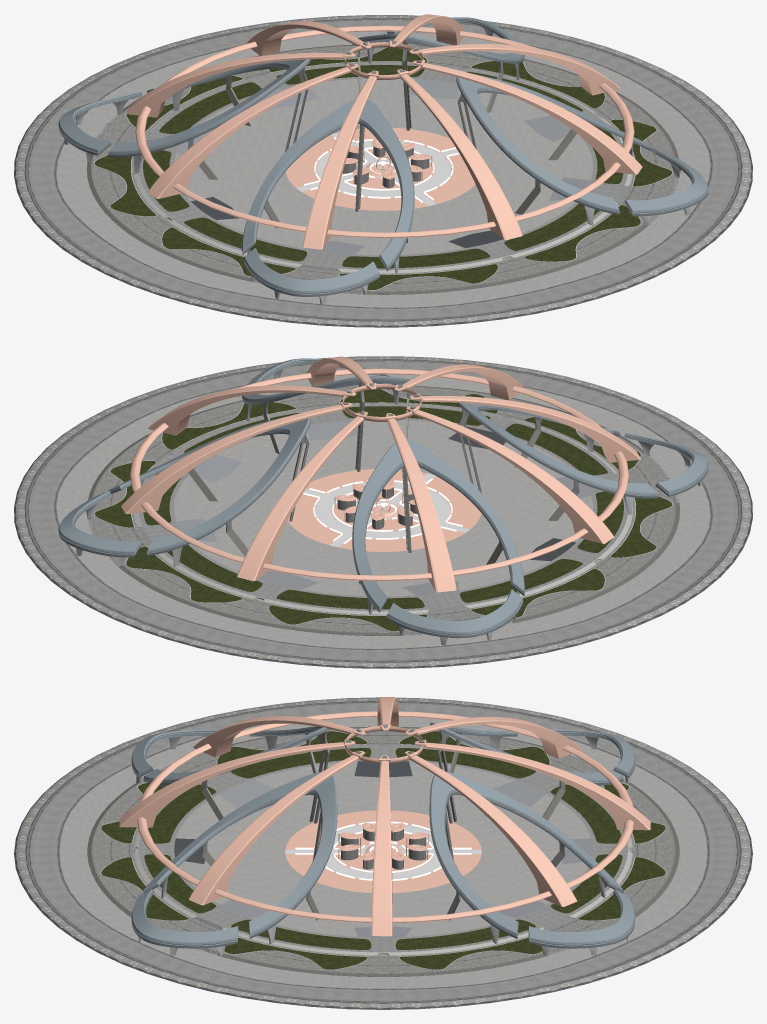
Rendered from Polished VWM 3d model compressed.glb.
3 views of the same model, one above another, from view 1: azimuth 30°, elevation 25°; view 2: azimuth 150°, elevation 25°; view 3: azimuth 270°, elevation 25° (orthographic).
Visible parts, largest first — view 1: KB3D_OAS_BldgLgInterplanetaryEmbassy_A_MAIN_CIRCLE_FLOOR, KB3D_OAS_BldgLgInterplanetaryEmbassy_A_Grassy_Area, KB3D_LNB_BldgXLG_C_TowerSupport.001, KB3D_LNB_BldgXLG_C_TowerSupport.002, KB3D_OAS_BldgLgInterplanetaryEmbassy_A_ArchwayA.001, KB3D_LNB_BldgXLG_C_Ground.002, KB3D_OAS_BldgLgInterplanetaryEmbassy_A_ArchwayA.004, KB3D_OAS_BldgLgInterplanetaryEmbassy_A_ArchwayA.002, Lower_Dome_Larger_Glass_Circle_Rim, KB3D_OAS_BldgLgInterplanetaryEmbassy_A_MAIN_CIRCLE_FLOOR.001, KB3D_OAS_BldgLgInterplanetaryEmbassy_A_ArchwayA.003, Top_Dome_Smaller_Glass_Circle_Rim; view 2: KB3D_OAS_BldgLgInterplanetaryEmbassy_A_MAIN_CIRCLE_FLOOR, KB3D_OAS_BldgLgInterplanetaryEmbassy_A_Grassy_Area, KB3D_LNB_BldgXLG_C_TowerSupport.001, KB3D_LNB_BldgXLG_C_TowerSupport.002, KB3D_OAS_BldgLgInterplanetaryEmbassy_A_ArchwayA.002, KB3D_LNB_BldgXLG_C_Ground.002, KB3D_OAS_BldgLgInterplanetaryEmbassy_A_ArchwayA.003, Lower_Dome_Larger_Glass_Circle_Rim, KB3D_OAS_BldgLgInterplanetaryEmbassy_A_ArchwayA.001, KB3D_OAS_BldgLgInterplanetaryEmbassy_A_MAIN_CIRCLE_FLOOR.001, KB3D_OAS_BldgLgInterplanetaryEmbassy_A_ArchwayA.004, Top_Dome_Smaller_Glass_Circle_Rim; view 3: KB3D_OAS_BldgLgInterplanetaryEmbassy_A_MAIN_CIRCLE_FLOOR, KB3D_OAS_BldgLgInterplanetaryEmbassy_A_Grassy_Area, KB3D_LNB_BldgXLG_C_TowerSupport.002, KB3D_LNB_BldgXLG_C_TowerSupport.001, KB3D_OAS_BldgLgInterplanetaryEmbassy_A_ArchwayA.003, KB3D_OAS_BldgLgInterplanetaryEmbassy_A_ArchwayA.004, KB3D_LNB_BldgXLG_C_Ground.002, Lower_Dome_Larger_Glass_Circle_Rim, KB3D_OAS_BldgLgInterplanetaryEmbassy_A_MAIN_CIRCLE_FLOOR.001, KB3D_OAS_BldgLgInterplanetaryEmbassy_A_ArchwayA.001, KB3D_OAS_BldgLgInterplanetaryEmbassy_A_ArchwayA.002, Top_Dome_Smaller_Glass_Circle_Rim.
Part boxes in pixels (bbox=[...]): KB3D_OAS_BldgLgInterplanetaryEmbassy_A_MAIN_CIRCLE_FLOOR: bbox=[14, 15, 752, 327]; KB3D_OAS_BldgLgInterplanetaryEmbassy_A_Grassy_Area: bbox=[94, 47, 672, 290]; KB3D_LNB_BldgXLG_C_TowerSupport.001: bbox=[148, 21, 620, 239]; KB3D_LNB_BldgXLG_C_TowerSupport.002: bbox=[125, 14, 642, 249]; KB3D_OAS_BldgLgInterplanetaryEmbassy_A_ArchwayA.001: bbox=[242, 99, 414, 304]; KB3D_LNB_BldgXLG_C_Ground.002: bbox=[285, 127, 475, 210]; KB3D_OAS_BldgLgInterplanetaryEmbassy_A_ArchwayA.004: bbox=[456, 74, 708, 225]; KB3D_OAS_BldgLgInterplanetaryEmbassy_A_ArchwayA.002: bbox=[58, 58, 310, 179]; Lower_Dome_Larger_Glass_Circle_Rim: bbox=[135, 25, 634, 238]; KB3D_OAS_BldgLgInterplanetaryEmbassy_A_MAIN_CIRCLE_FLOOR.001: bbox=[176, 79, 589, 254]; KB3D_OAS_BldgLgInterplanetaryEmbassy_A_ArchwayA.003: bbox=[352, 17, 524, 130]; Top_Dome_Smaller_Glass_Circle_Rim: bbox=[344, 42, 423, 79]; KB3D_OAS_BldgLgInterplanetaryEmbassy_A_MAIN_CIRCLE_FLOOR: bbox=[14, 356, 752, 668]; KB3D_OAS_BldgLgInterplanetaryEmbassy_A_Grassy_Area: bbox=[94, 389, 672, 631]; KB3D_LNB_BldgXLG_C_TowerSupport.001: bbox=[148, 364, 614, 581]; KB3D_LNB_BldgXLG_C_TowerSupport.002: bbox=[121, 356, 640, 592]; KB3D_OAS_BldgLgInterplanetaryEmbassy_A_ArchwayA.002: bbox=[352, 439, 524, 645]; KB3D_LNB_BldgXLG_C_Ground.002: bbox=[287, 469, 480, 551]; KB3D_OAS_BldgLgInterplanetaryEmbassy_A_ArchwayA.003: bbox=[58, 417, 310, 566]; Lower_Dome_Larger_Glass_Circle_Rim: bbox=[130, 368, 629, 581]; KB3D_OAS_BldgLgInterplanetaryEmbassy_A_ArchwayA.001: bbox=[457, 396, 708, 520]; KB3D_OAS_BldgLgInterplanetaryEmbassy_A_MAIN_CIRCLE_FLOOR.001: bbox=[176, 420, 590, 595]; KB3D_OAS_BldgLgInterplanetaryEmbassy_A_ArchwayA.004: bbox=[242, 358, 414, 471]; Top_Dome_Smaller_Glass_Circle_Rim: bbox=[342, 384, 421, 421]; KB3D_OAS_BldgLgInterplanetaryEmbassy_A_MAIN_CIRCLE_FLOOR: bbox=[14, 697, 752, 1009]; KB3D_OAS_BldgLgInterplanetaryEmbassy_A_Grassy_Area: bbox=[100, 731, 666, 970]; KB3D_LNB_BldgXLG_C_TowerSupport.002: bbox=[188, 716, 581, 906]; KB3D_LNB_BldgXLG_C_TowerSupport.001: bbox=[119, 697, 650, 936]; KB3D_OAS_BldgLgInterplanetaryEmbassy_A_ArchwayA.003: bbox=[429, 771, 635, 956]; KB3D_OAS_BldgLgInterplanetaryEmbassy_A_ArchwayA.004: bbox=[131, 771, 337, 956]; KB3D_LNB_BldgXLG_C_Ground.002: bbox=[285, 810, 481, 893]; Lower_Dome_Larger_Glass_Circle_Rim: bbox=[137, 711, 634, 923]; KB3D_OAS_BldgLgInterplanetaryEmbassy_A_MAIN_CIRCLE_FLOOR.001: bbox=[174, 761, 592, 937]; KB3D_OAS_BldgLgInterplanetaryEmbassy_A_ArchwayA.001: bbox=[131, 722, 336, 823]; KB3D_OAS_BldgLgInterplanetaryEmbassy_A_ArchwayA.002: bbox=[429, 722, 635, 823]; Top_Dome_Smaller_Glass_Circle_Rim: bbox=[345, 726, 423, 763].
Size of the model in its own units: 607 by 112 by 607.
Materials: 26 (19 with a texture image).
